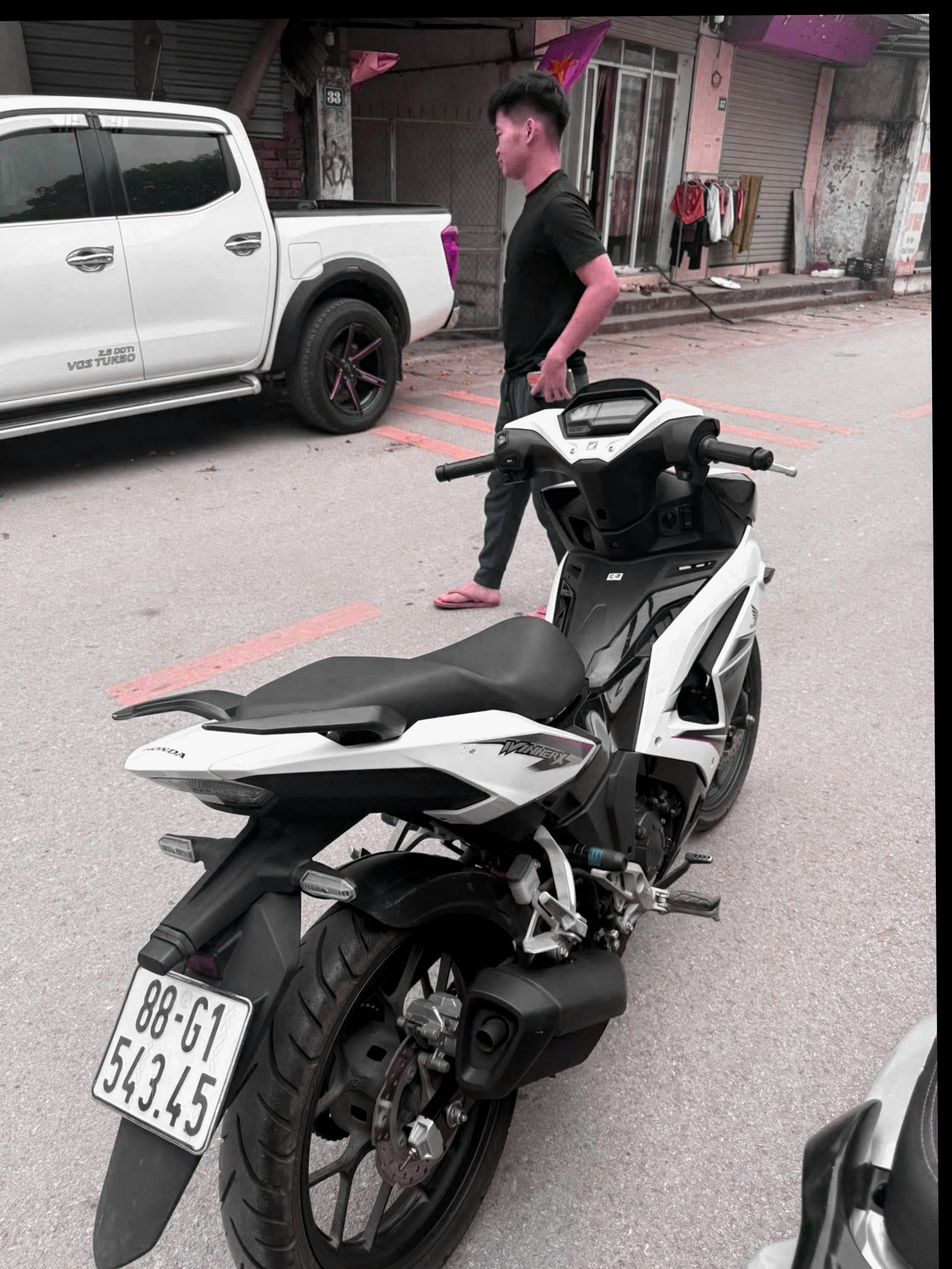Bien-so: (55, 944, 238, 1149)
